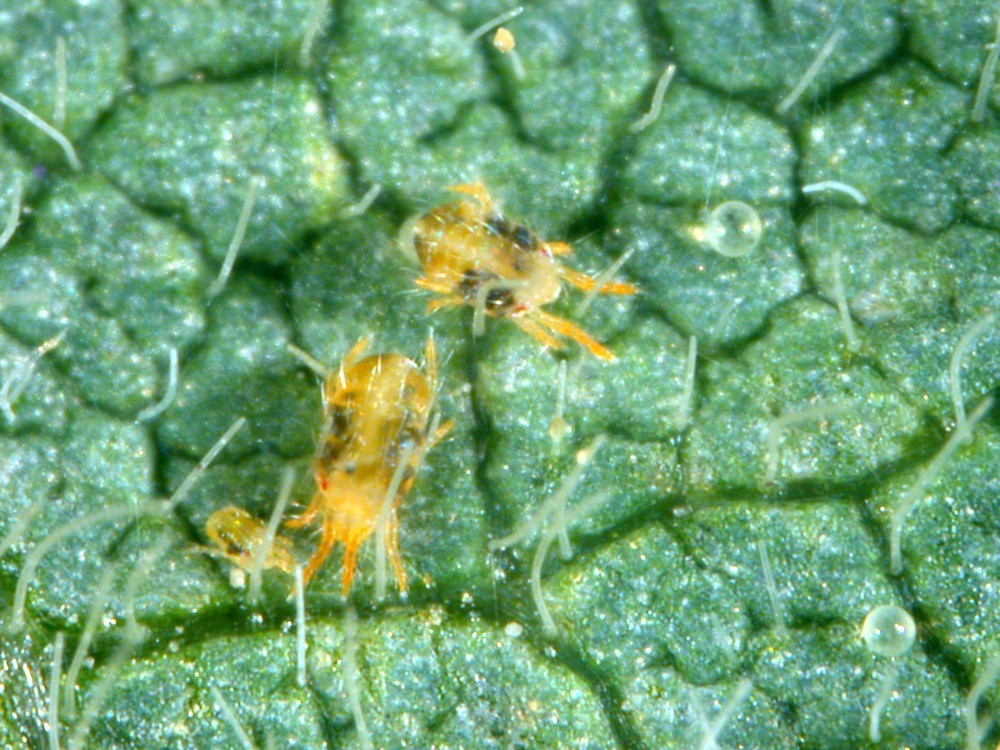Aracnido Rojo: (379, 176, 657, 389), (266, 331, 458, 600), (194, 481, 314, 591)
